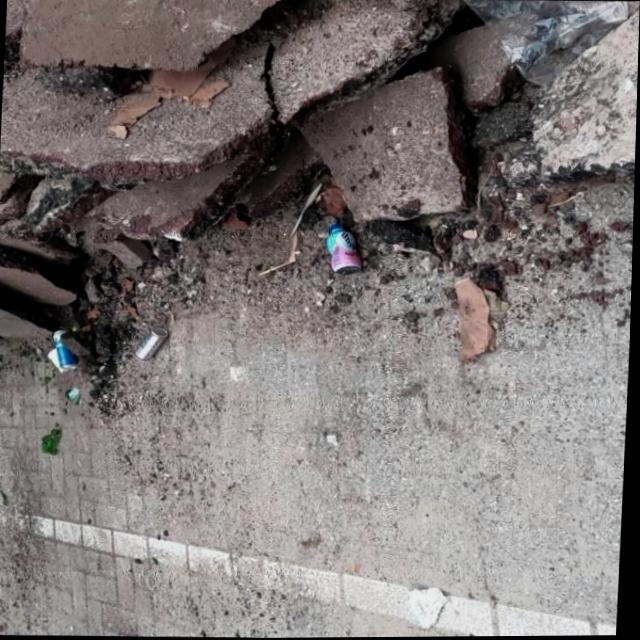Can-Metal: (133, 325, 171, 361), (51, 328, 82, 370), (0, 357, 4, 371)
Cup: (47, 348, 72, 372)
Plastic: (69, 386, 81, 404)
